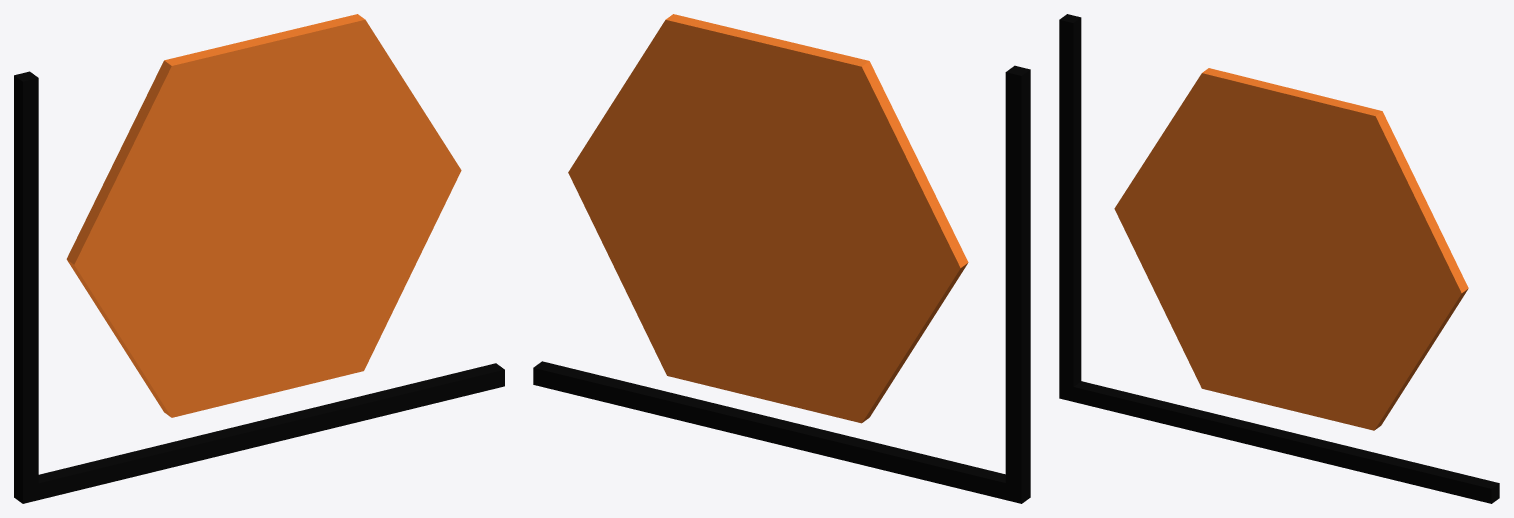
Rendered from poligonos.gltf.
The picture shows the model from 3 angles, left to right: view 1: azimuth 30°, elevation 25°; view 2: azimuth 150°, elevation 25°; view 3: azimuth 330°, elevation 25°; orthographic projection. The views are drawn at different scales.
Size of the model in its own units: 0.0717 by 0.06 by 0.00328.
